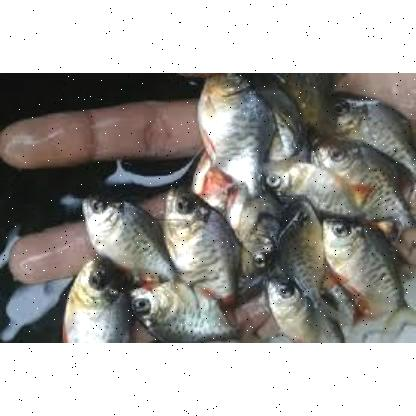ikan-pacu: (322, 214, 414, 324), (196, 73, 276, 187), (78, 193, 174, 285), (162, 186, 236, 304), (316, 136, 414, 219), (124, 278, 250, 342), (64, 258, 132, 342), (334, 92, 414, 162), (265, 159, 357, 215)
